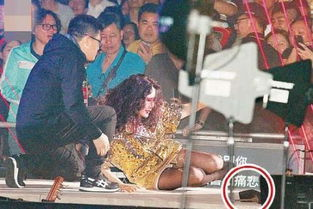10+: (1, 1, 313, 197)
down: (100, 72, 229, 191)
